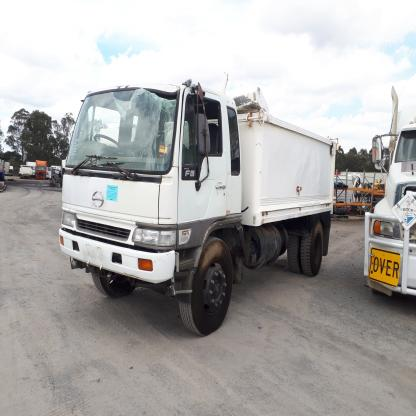dump_truck: (51, 57, 339, 321)
